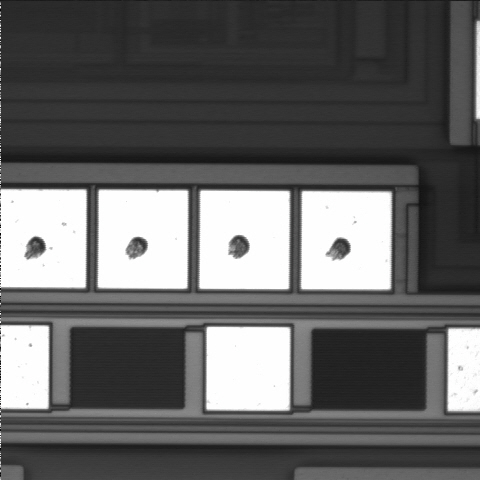pad: (199, 191, 290, 289), (98, 190, 188, 289), (301, 191, 391, 289), (206, 327, 290, 410)
